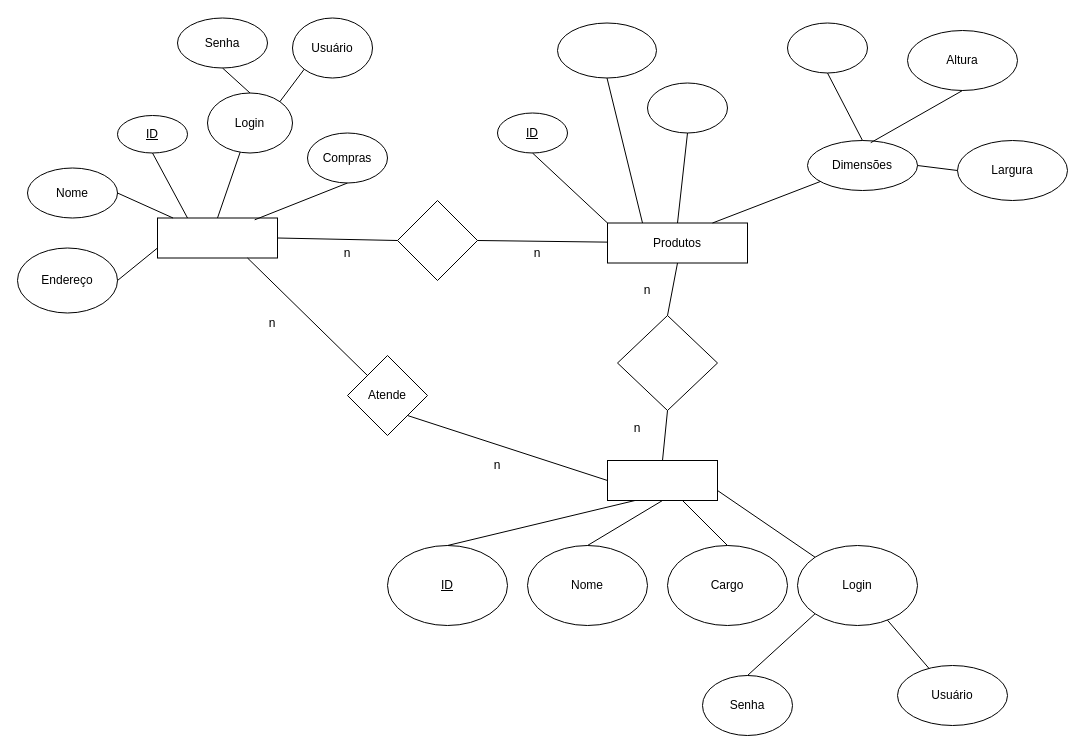
Image size: 1085x753. Some labels were removed from this diagram. The centre of each missing label's shape, as x and y in pixels:
"Clientes" belongs at point (217, 237).
"Compra" belongs at point (437, 240).
"Funcionários" belongs at point (662, 480).
"Gerencia" belongs at point (667, 362).
"Massa" belongs at point (827, 47).
"Preço" belongs at point (687, 107).
"Quantidade" belongs at point (606, 50).
